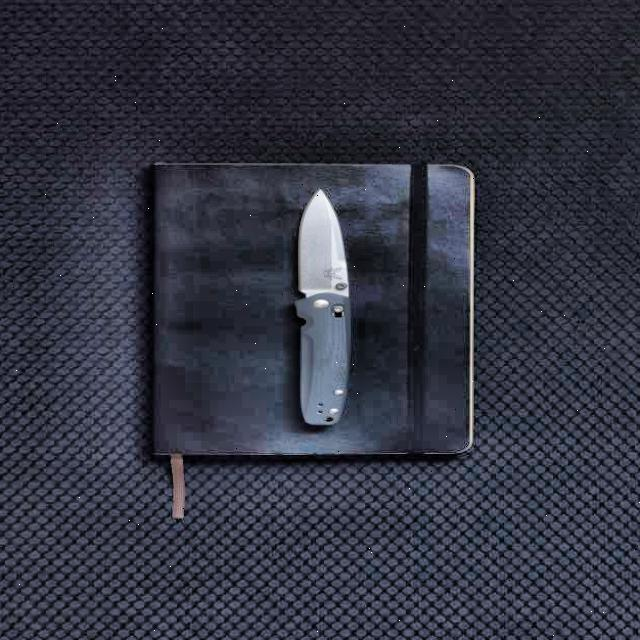knife: (294, 184, 362, 434)
